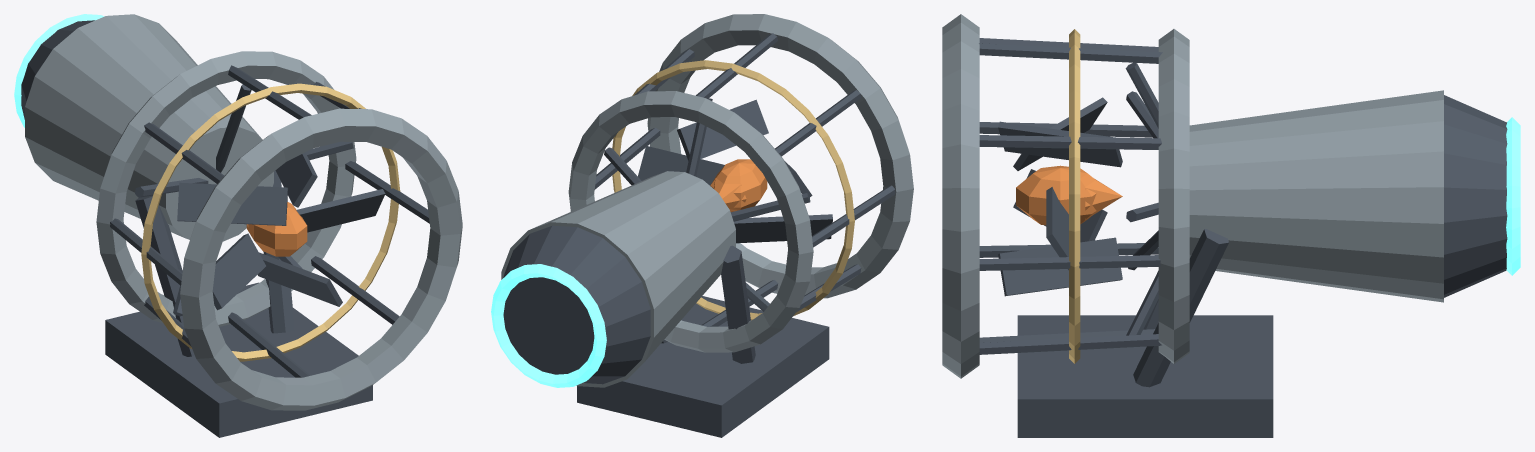
File: sub_thruster_large.glb
The picture shows the model from 3 angles, left to right: view 1: azimuth 30°, elevation 25°; view 2: azimuth 150°, elevation 25°; view 3: azimuth 270°, elevation 25°; orthographic projection. The views are drawn at different scales.
Visible parts, largest first — view 1: sub_thruster_large_hull, sub_thruster_large_dark, sub_thruster_large_brass, sub_thruster_large_accent, sub_thruster_large_glow; view 2: sub_thruster_large_hull, sub_thruster_large_dark, sub_thruster_large_glow, sub_thruster_large_brass, sub_thruster_large_accent; view 3: sub_thruster_large_hull, sub_thruster_large_dark, sub_thruster_large_brass, sub_thruster_large_accent, sub_thruster_large_glow.
Part boxes in pixels (box(x1,y1,x2,y2)): sub_thruster_large_hull: box(25, 14, 462, 410); sub_thruster_large_dark: box(21, 20, 429, 437); sub_thruster_large_brass: box(141, 83, 400, 361); sub_thruster_large_accent: box(246, 202, 307, 256); sub_thruster_large_glow: box(14, 14, 104, 127); sub_thruster_large_hull: box(501, 14, 913, 387); sub_thruster_large_dark: box(503, 33, 895, 437); sub_thruster_large_glow: box(491, 264, 606, 387); sub_thruster_large_brass: box(612, 60, 854, 320); sub_thruster_large_accent: box(710, 159, 767, 212); sub_thruster_large_hull: box(942, 14, 1443, 378); sub_thruster_large_dark: box(979, 38, 1507, 437); sub_thruster_large_brass: box(1069, 29, 1080, 363); sub_thruster_large_accent: box(1016, 165, 1122, 225); sub_thruster_large_glow: box(1506, 117, 1520, 275).
Bounding box in the file's own units: 2.58 × 2.83 × 4.07.
